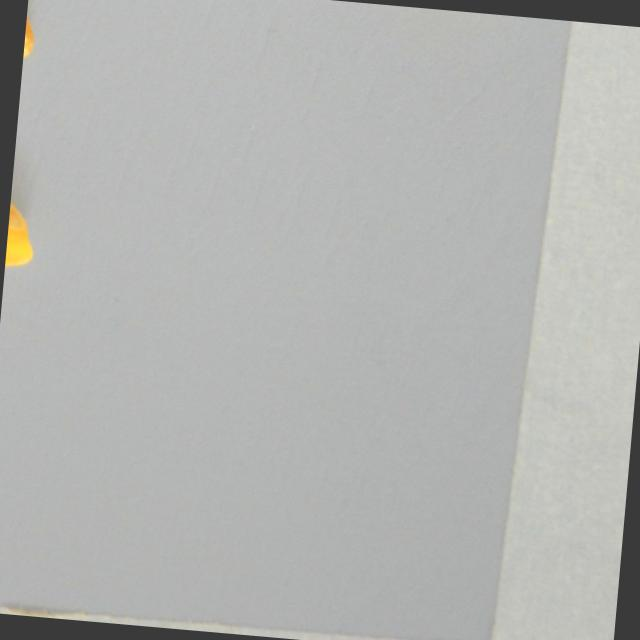pelicula: (3, 183, 39, 271), (21, 0, 38, 64)
